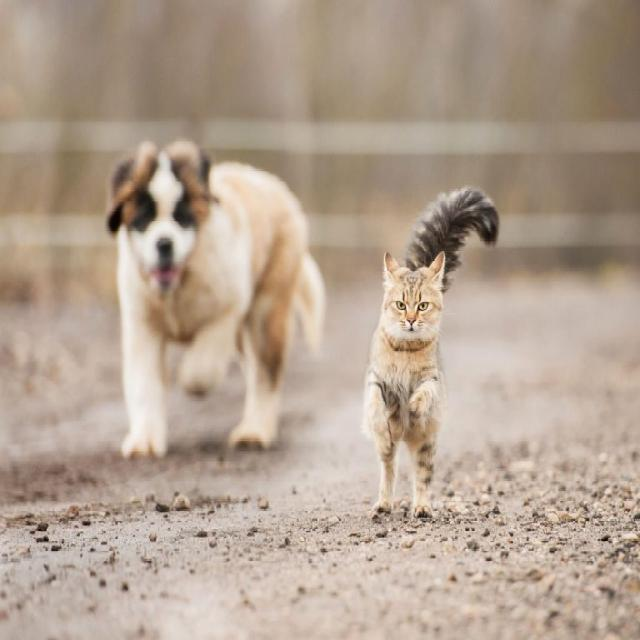cat: (354, 187, 498, 523)
dog: (86, 123, 327, 484)
